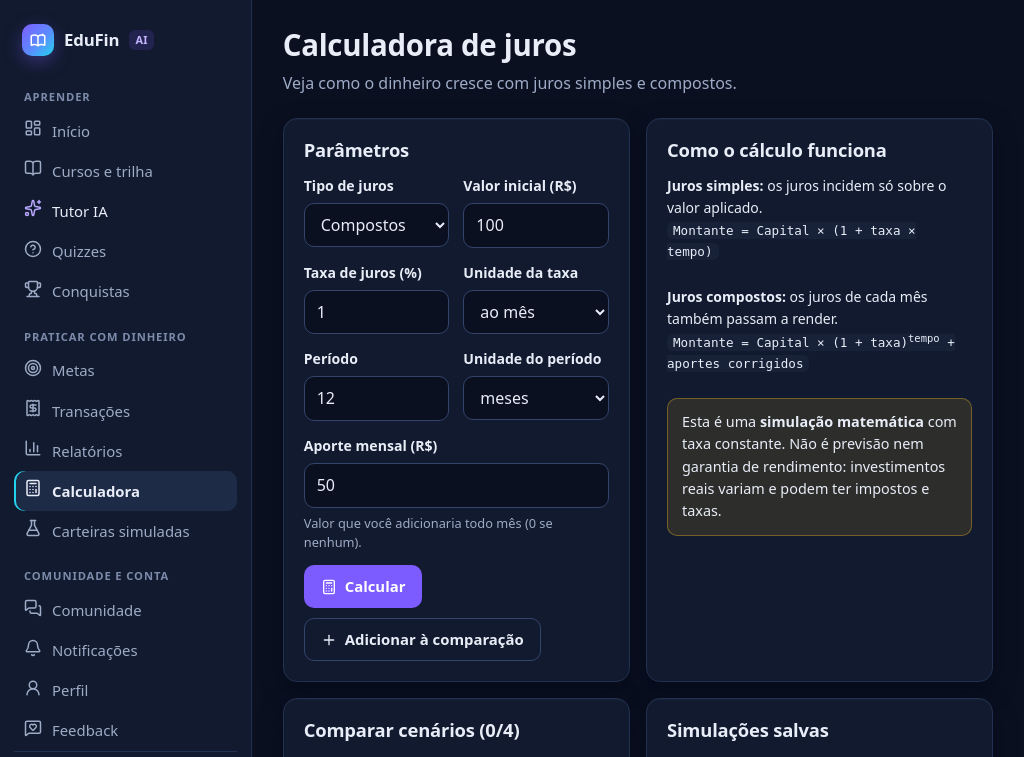
Test case: calculadora › envia os parâmetros ao servidor e exibe o resultado
Click the button "Calcular".
click(363, 587)  # box [304,565,422,608]
(page scrolled)
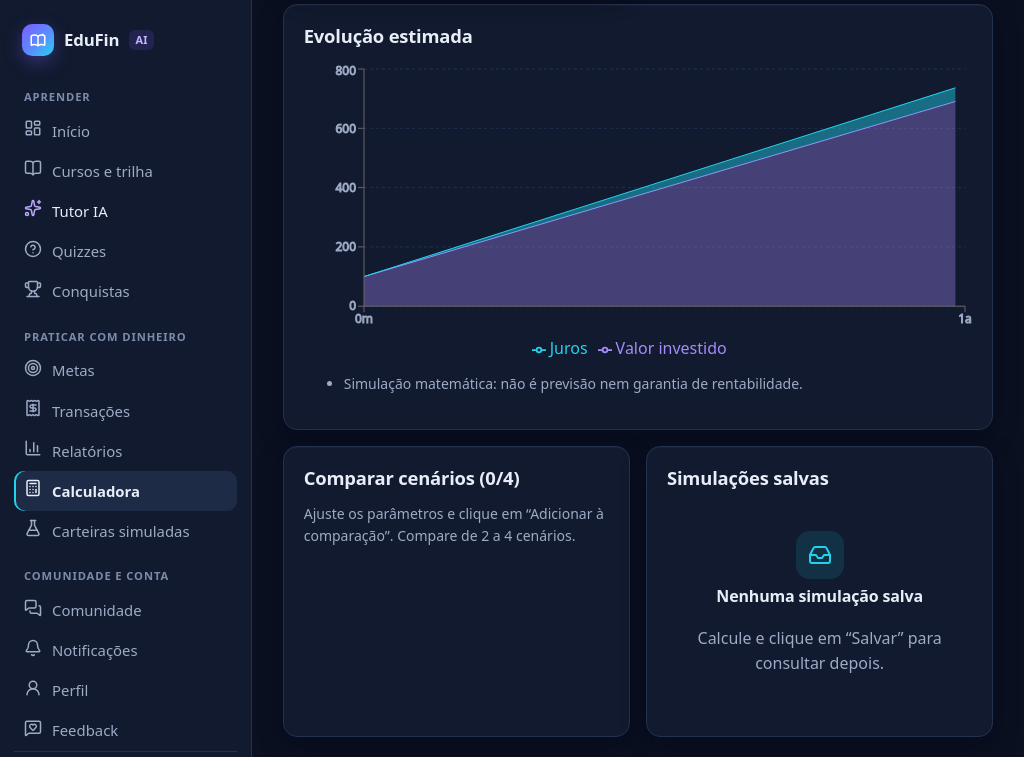
Result: the list item "Simulação matemática: não é previsão nem garantia de rentabilidade." is shown at [344,374,803,393]
